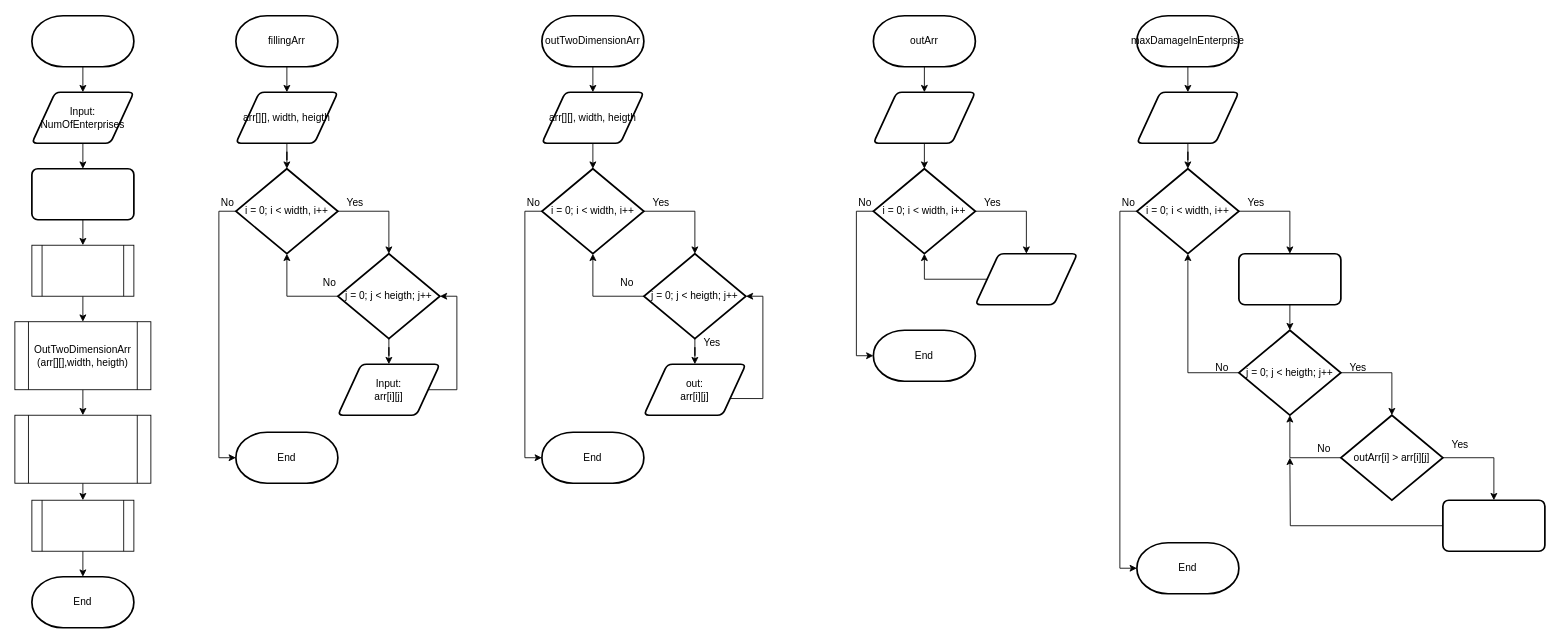
Image size: 1561x643. Some labels were removed from this diagram. Each missing label, with the box of its shape:
allEnterprise[n][12] maDamage[n]: (31, 167, 134, 220)
arr[], size: (872, 91, 976, 144)
fillingArr(arr[][],width, heigth): (31, 244, 134, 296)
maxDamageInEnterprise (outArr[], arr[][], weigth, heigth): (14, 414, 151, 483)
out: arr[i]: (974, 252, 1078, 305)
outArr(arr[], size): (31, 499, 134, 551)
outArr[], arr[][], weigth, heigth: (1136, 91, 1239, 144)
outArr[i] = arr [i][0]: (1238, 252, 1341, 305)
outArr[i] = arr [i][j]: (1442, 499, 1545, 552)
Star: (31, 14, 134, 67)
